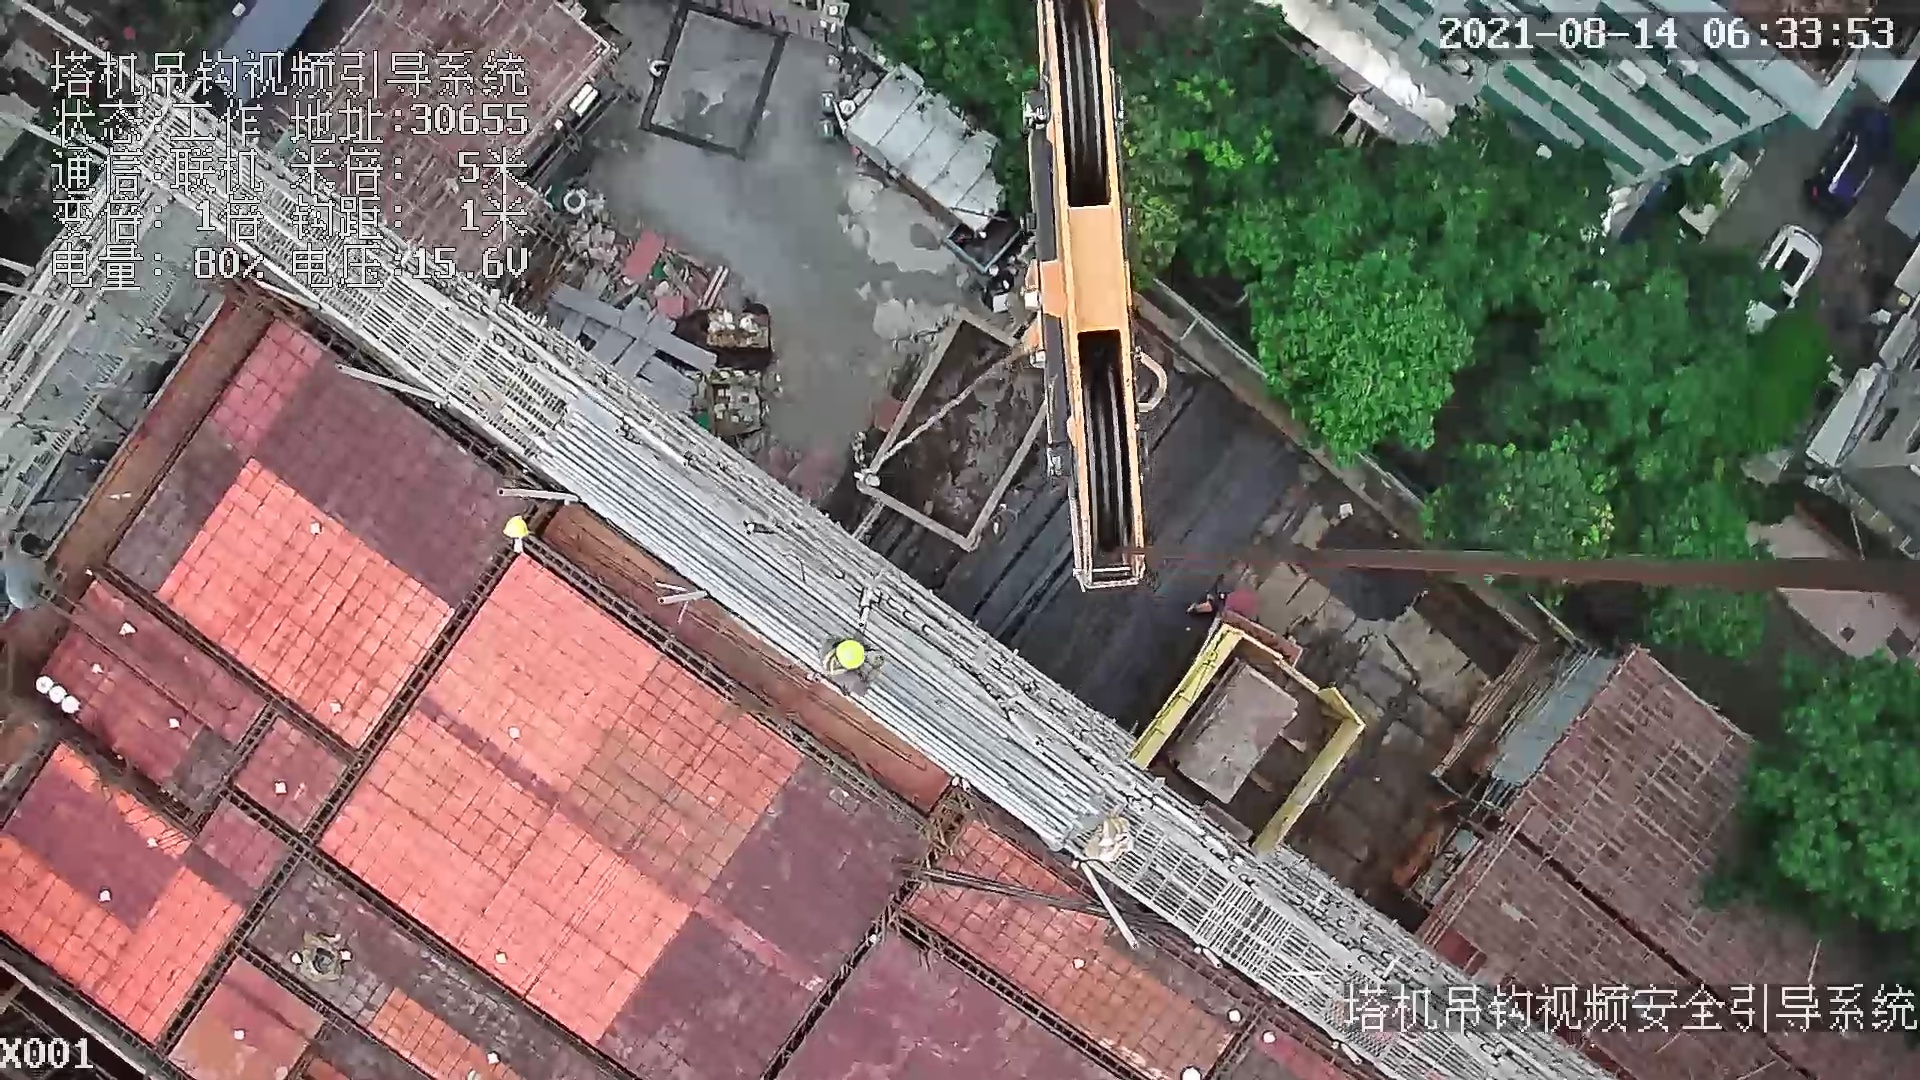helmet: (836, 642, 873, 672), (504, 512, 532, 541)
hook: (1012, 4, 1165, 595)
hopper: (864, 300, 1046, 568)
person: (819, 626, 885, 701)
